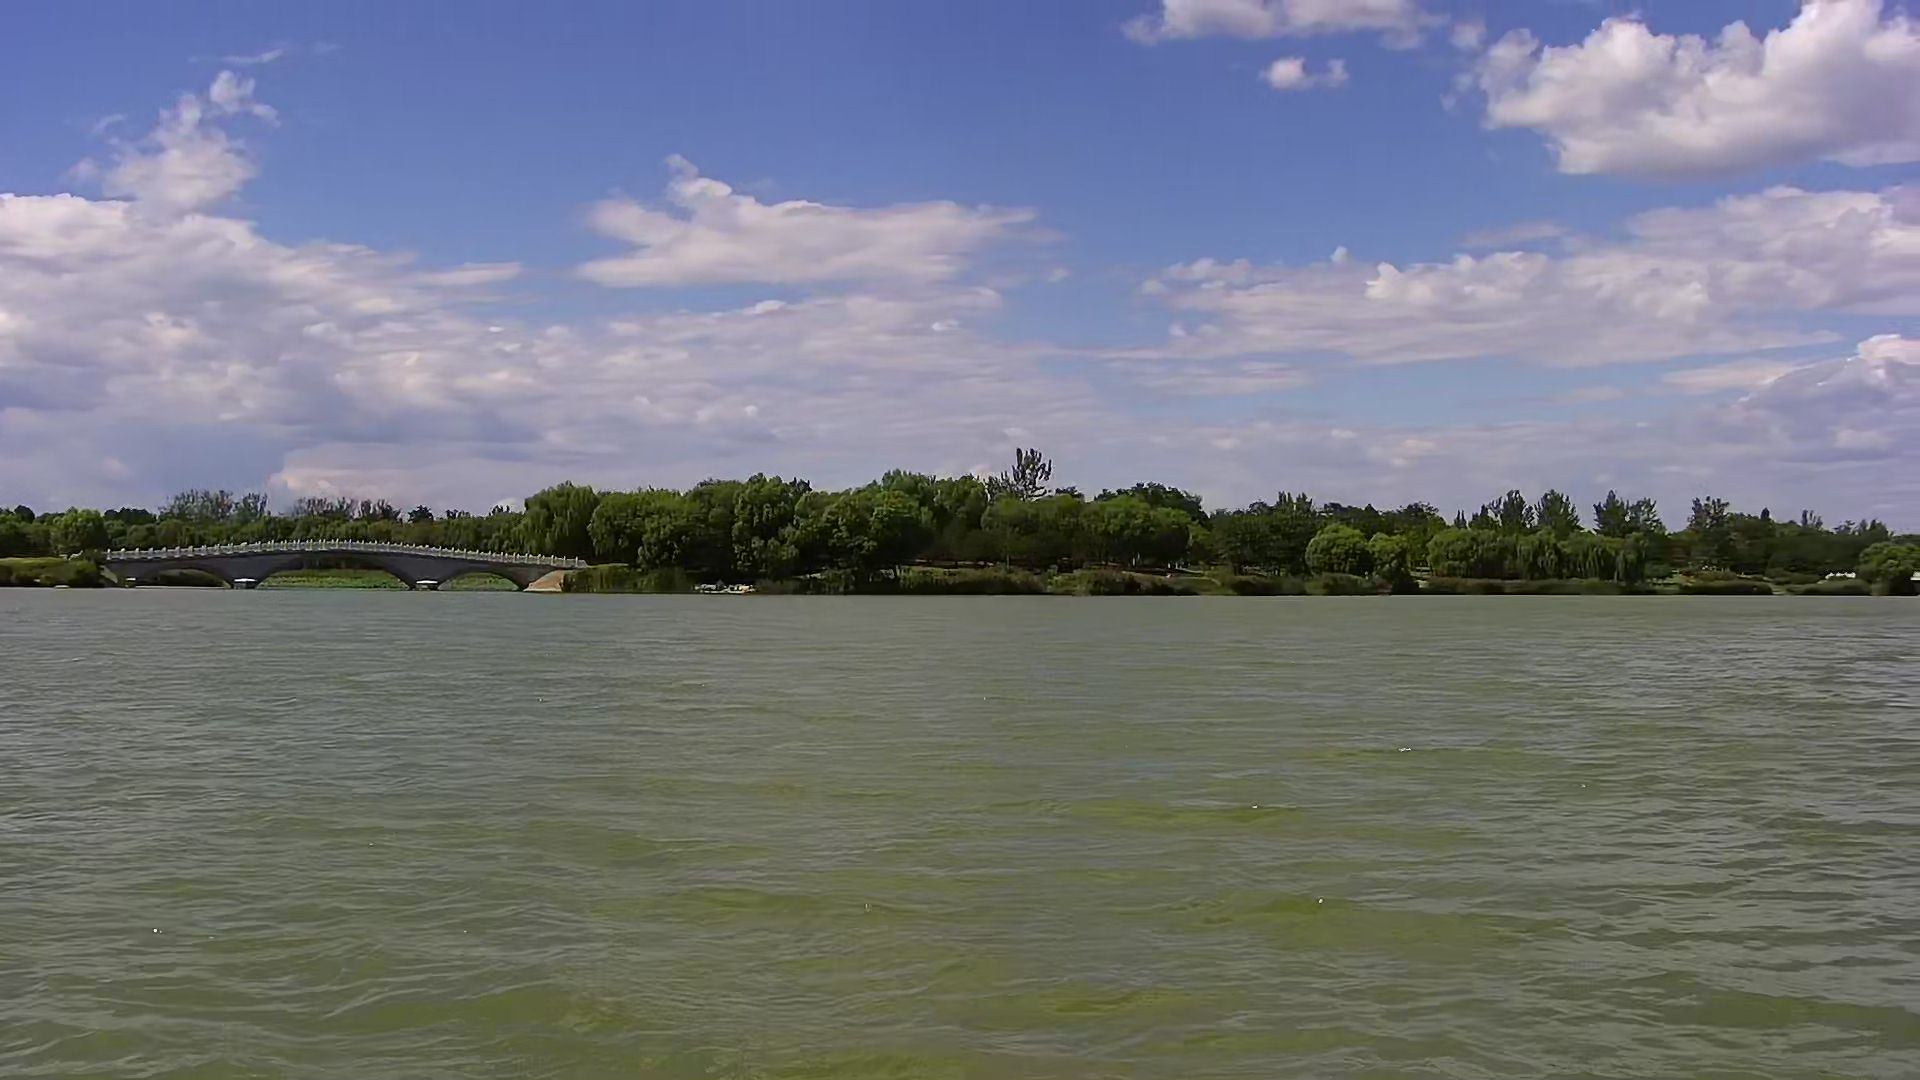bridge: (102, 527, 600, 597)
